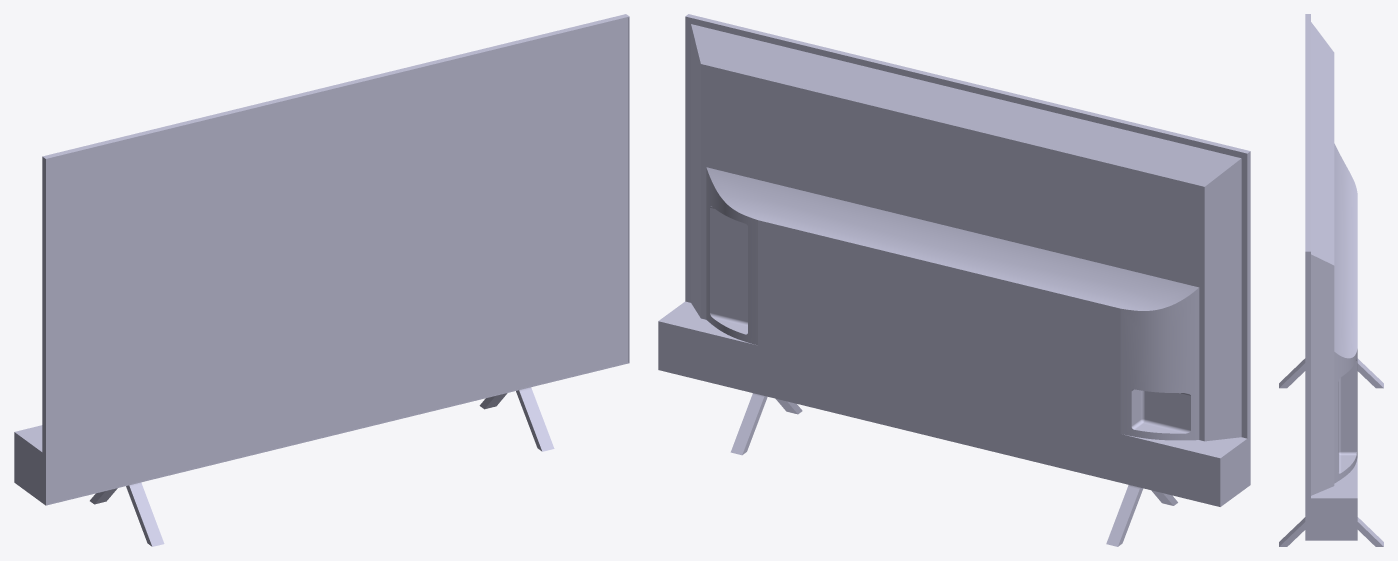
3 views of the same model, side by side, from view 1: azimuth 30°, elevation 25°; view 2: azimuth 150°, elevation 25°; view 3: azimuth 270°, elevation 25° (orthographic). The views are drawn at different scales.
Visible parts, largest first — view 1: Screen_clone, Stand_clone; view 2: Screen_clone, Stand_clone; view 3: Screen_clone, Stand_clone.
Part boxes in pixels (<box>): Screen_clone: <box>14,14,629,505</box>; Stand_clone: <box>90,387,554,546</box>; Screen_clone: <box>658,14,1250,506</box>; Stand_clone: <box>730,393,1177,546</box>; Screen_clone: <box>1305,14,1357,540</box>; Stand_clone: <box>1279,358,1383,546</box>.
Size of the model in its own units: 0.964 by 0.629 by 0.18.
